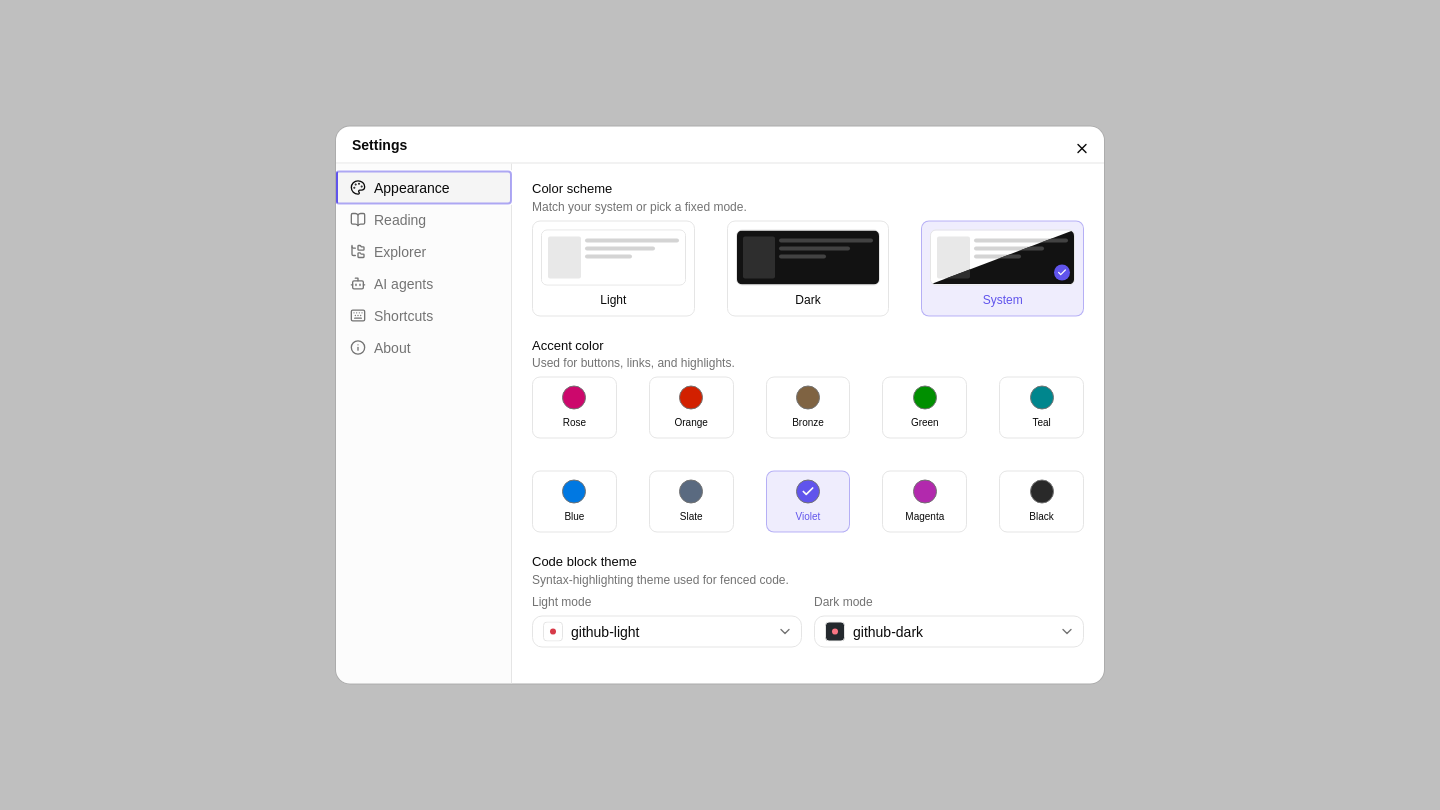
Test: SettingsDialog › switches to the shortcuts section
Click the button "Shortcuts" at [424, 316], box [336, 300, 511, 332]
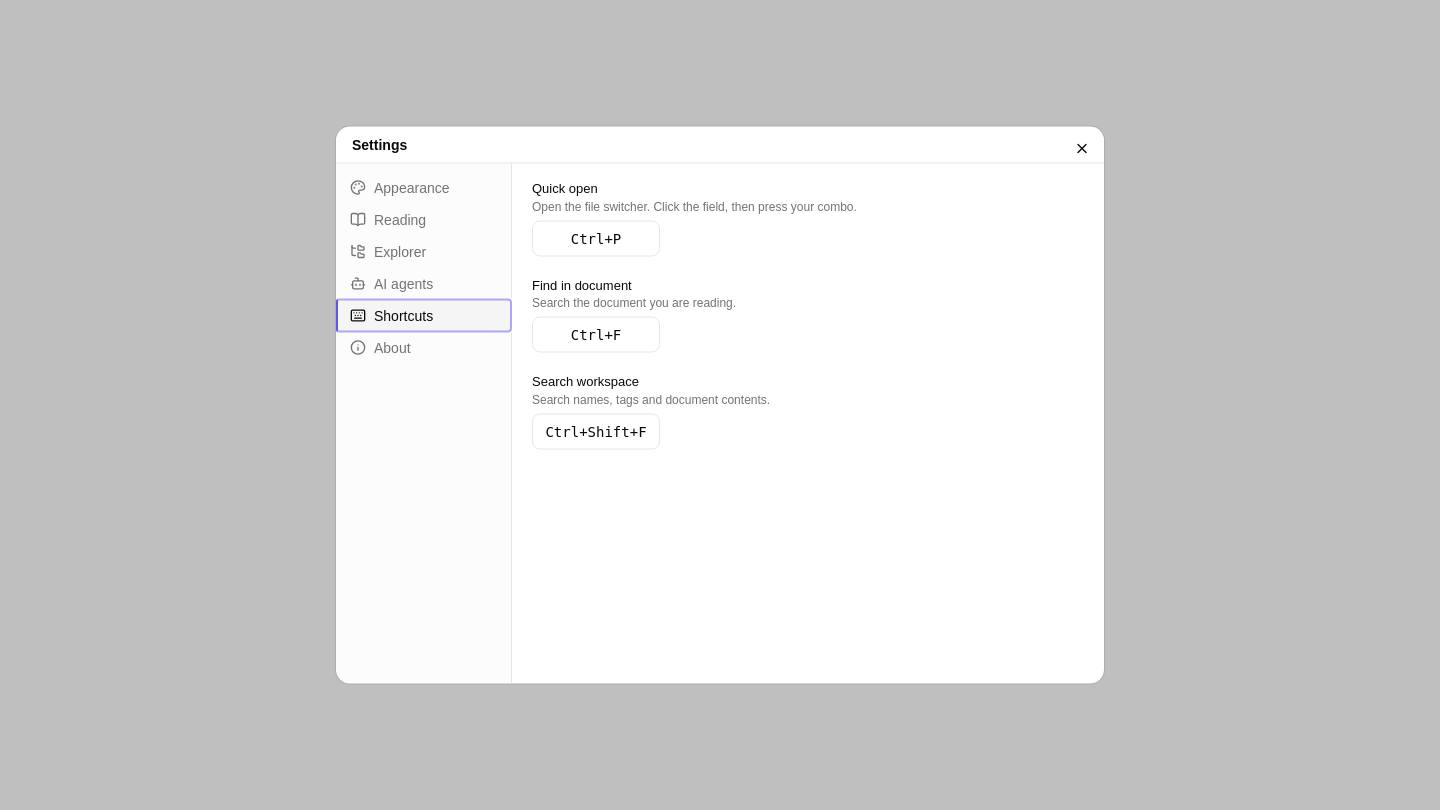
Now the text "Quick open" is shown, box [532, 180, 598, 196]
